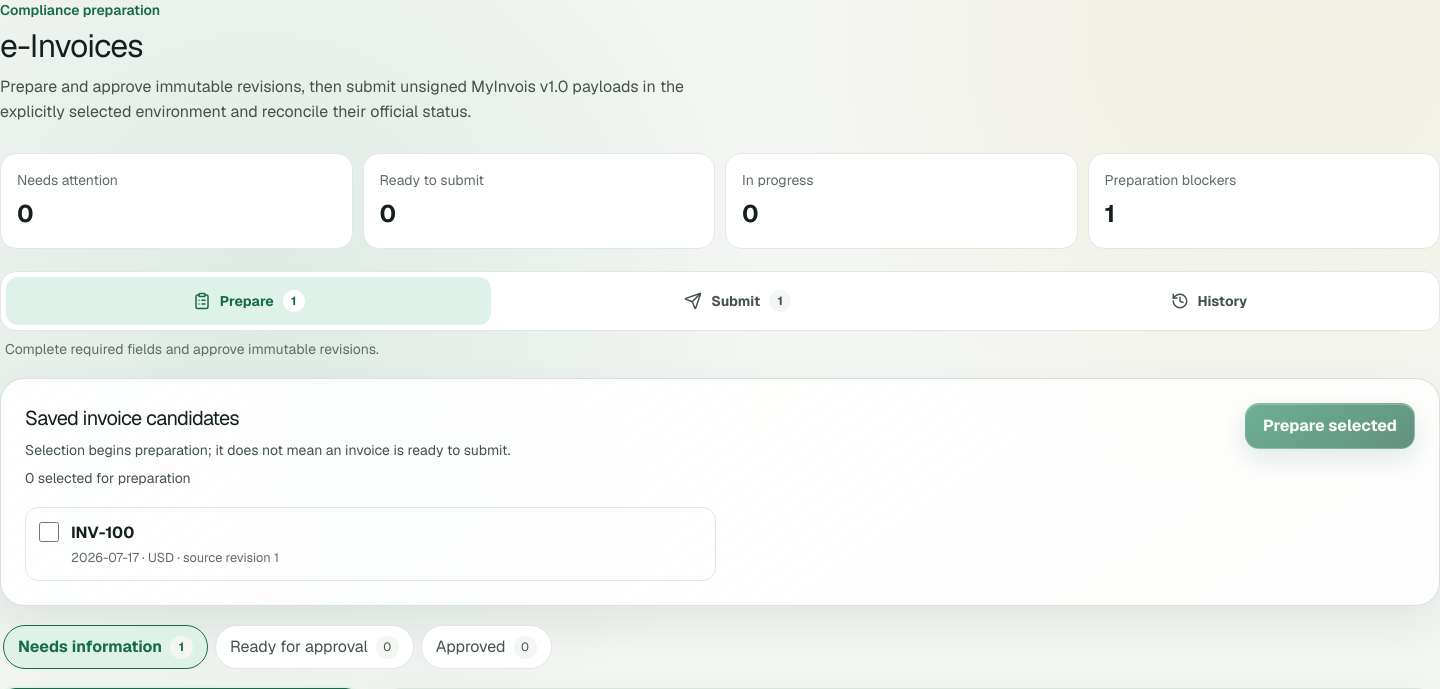
Test: EInvoiceWorkspace › does not show success when the server returns an existing failed attempt
Click the tab "Submit 1" at (738, 301), box [498,277,978,325]
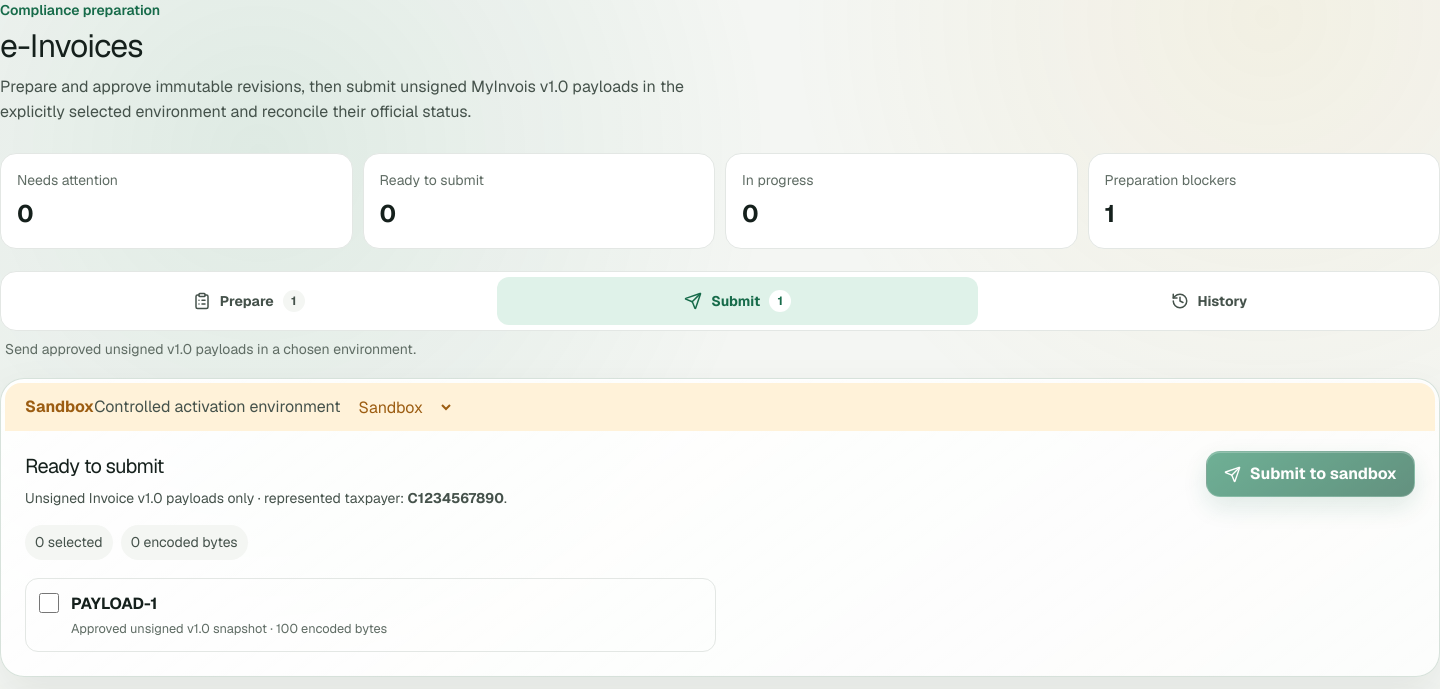
Click the checkbox labelled "PAYLOAD-1" at (49, 603), box [39,593,59,613]
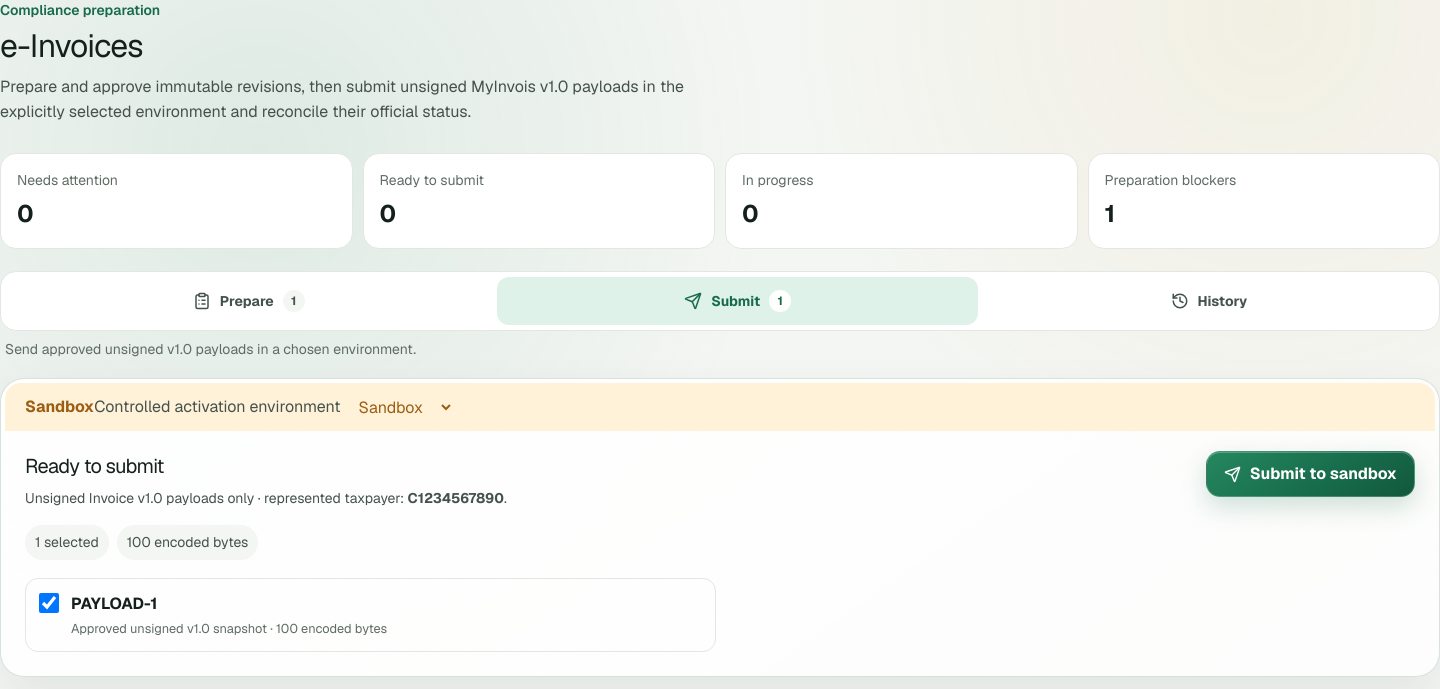
Click the button "Submit to sandbox" at (1310, 474), box [1206,451,1415,497]
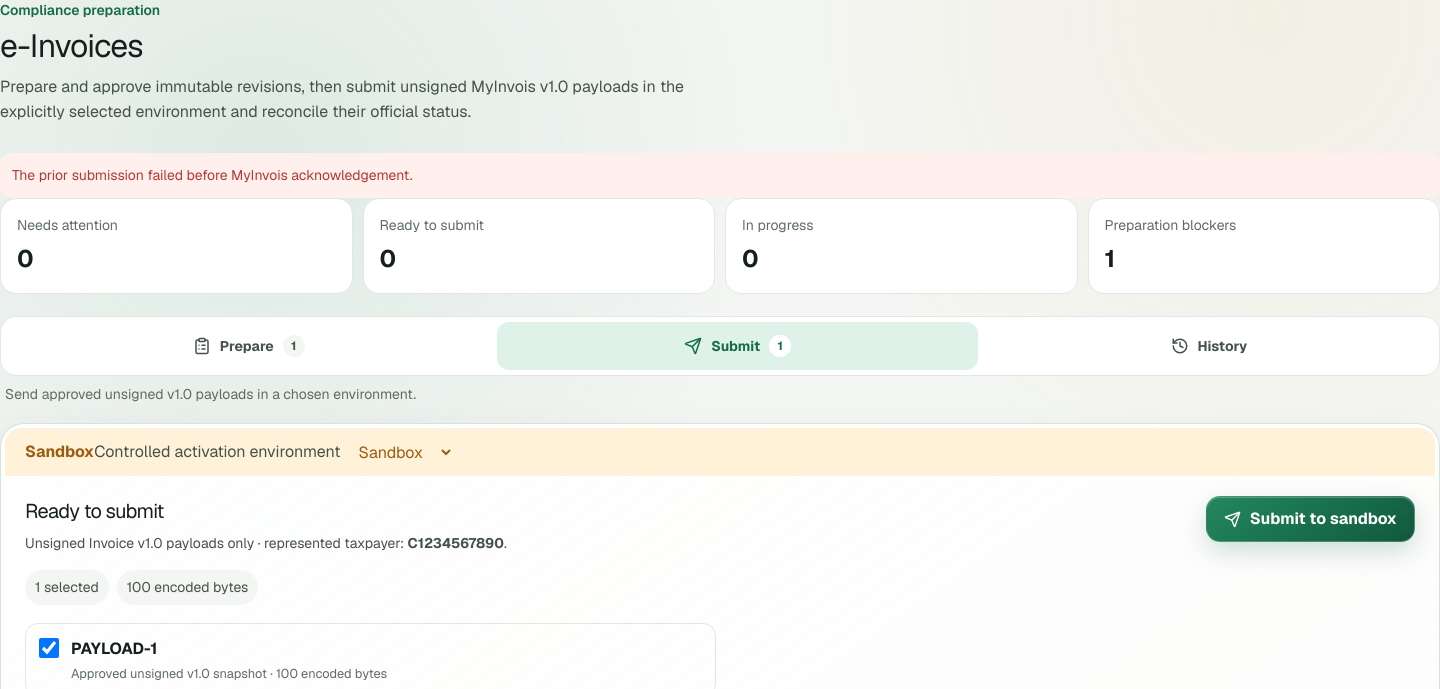
Check: the message shows "failed before MyInvois acknowledgement", box [12,166,412,184]
